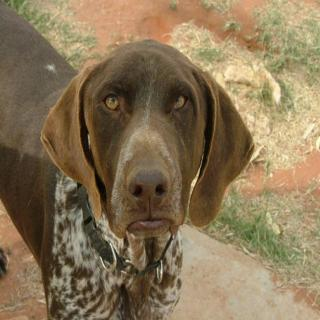dog: (42, 38, 260, 251)
nose: (125, 163, 171, 218)
